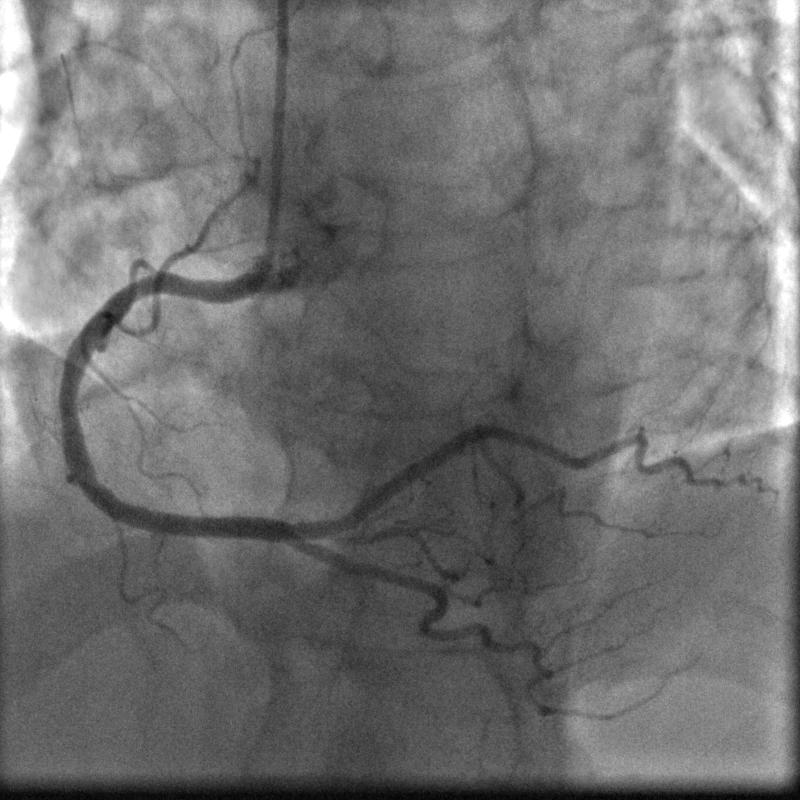Stenosis: (52, 368, 87, 420)
